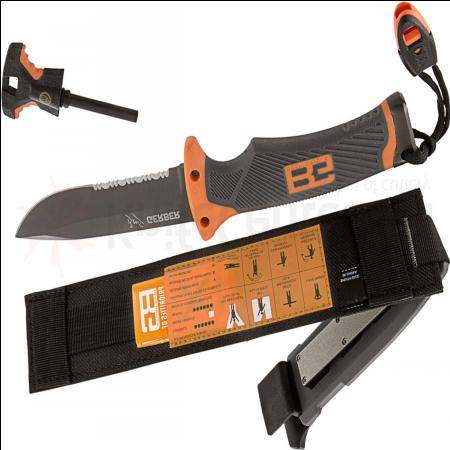long weapon: (11, 158, 195, 244)
